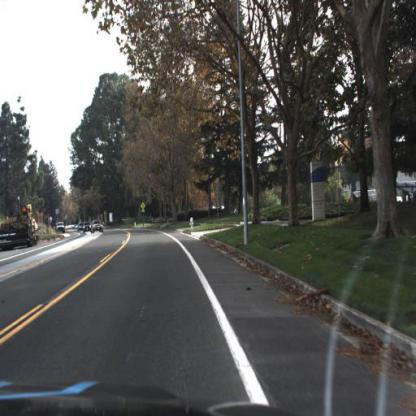car: (91, 220, 104, 235), (84, 221, 93, 235), (57, 223, 66, 233)
truck: (1, 201, 42, 251)
